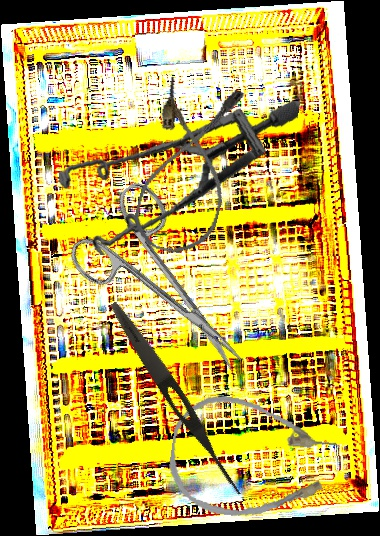Cannula: (163, 390, 342, 529), (128, 73, 249, 262)
Dressing Forceps: (104, 298, 250, 500)
Iris Scissors: (58, 176, 275, 403)
Speculum: (50, 73, 300, 277)
